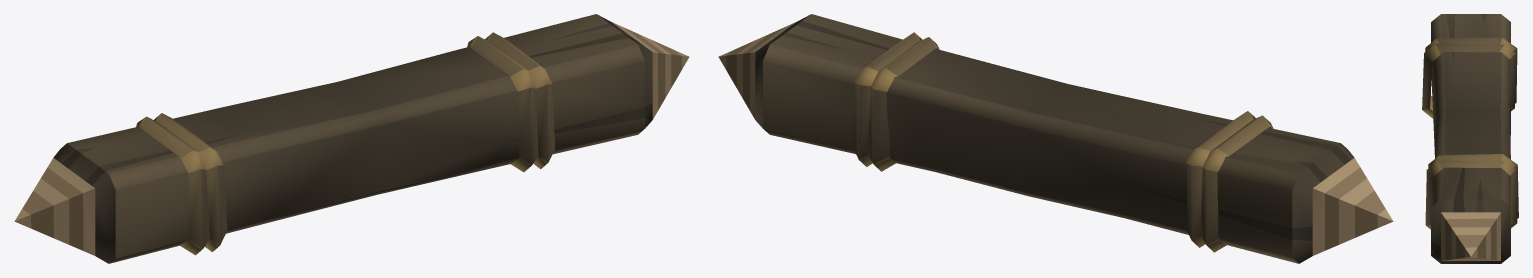
The model's file is orc_pointed_beam.fbx.
The picture shows the model from 3 angles, left to right: view 1: azimuth 30°, elevation 25°; view 2: azimuth 150°, elevation 25°; view 3: azimuth 270°, elevation 25°; orthographic projection. The views are drawn at different scales.
Visible parts, largest first — view 1: orc_pointed_beam; view 2: orc_pointed_beam; view 3: orc_pointed_beam.
Boxes of the visible parts, bbox=[...] form: orc_pointed_beam: bbox=[14, 14, 689, 263]; orc_pointed_beam: bbox=[718, 14, 1393, 263]; orc_pointed_beam: bbox=[1422, 14, 1518, 263].
Bounding box in the file's own units: 427 × 63.49 × 74.06.
